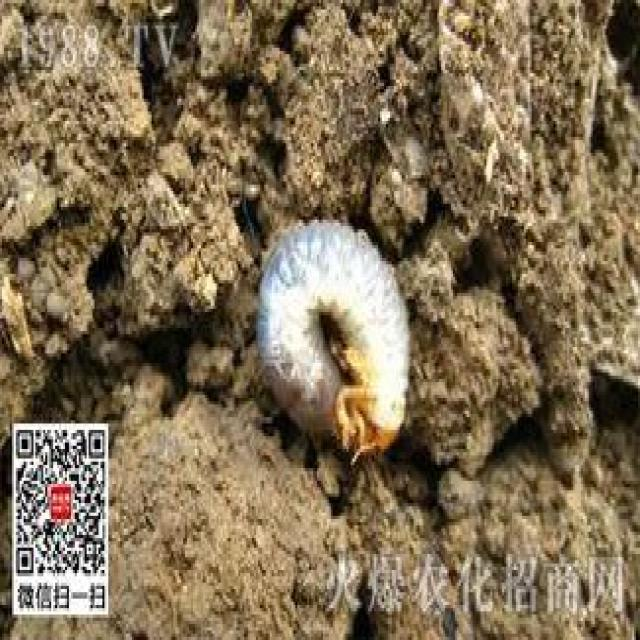Grub-Adult-: (234, 200, 445, 493)
